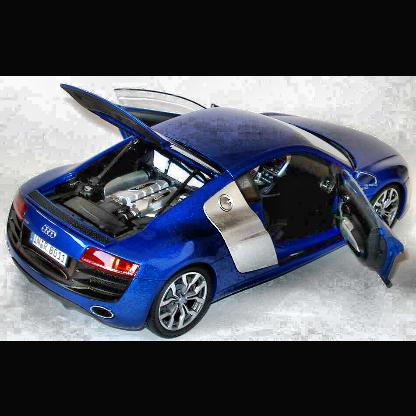Audi R8 Coupe 2012: (7, 83, 412, 340)
